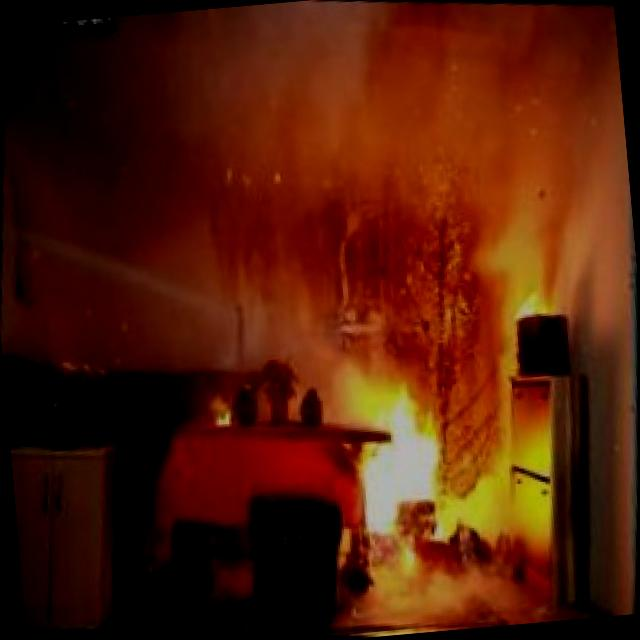fire: (292, 322, 498, 564)
smoke: (112, 0, 457, 314)
